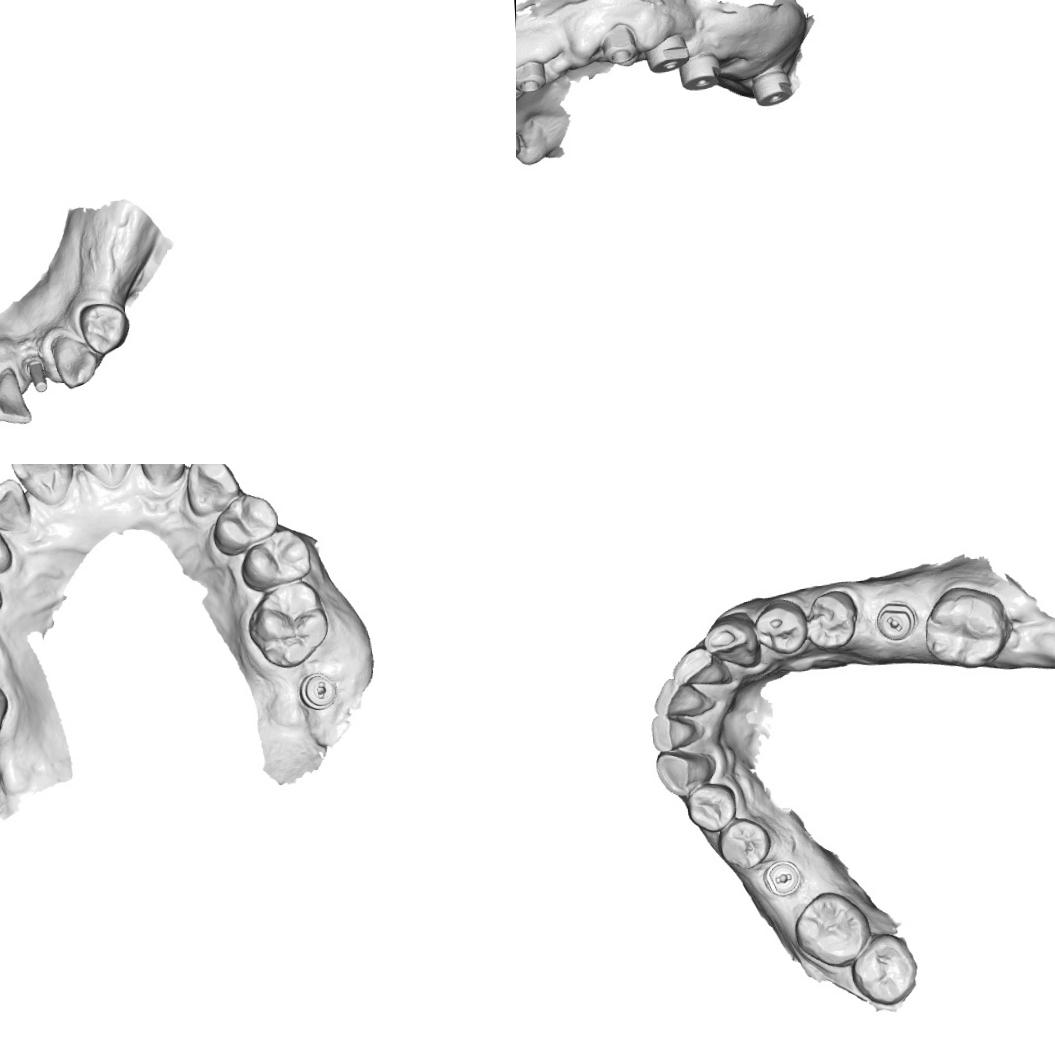abutment: (20, 353, 48, 394)
canine: (700, 609, 760, 672), (652, 746, 721, 799), (181, 464, 245, 519), (48, 330, 99, 390), (0, 513, 14, 579)
implant: (674, 42, 729, 100), (639, 26, 695, 78), (744, 58, 798, 108), (595, 20, 641, 68), (516, 52, 551, 95), (516, 127, 528, 163)
implant_minus: (293, 670, 339, 715), (760, 858, 806, 900), (874, 599, 916, 644)
incisor: (6, 464, 76, 510), (666, 646, 728, 689), (651, 674, 710, 718), (649, 710, 701, 756), (0, 473, 33, 536), (0, 365, 32, 425), (68, 464, 136, 492), (133, 464, 189, 491)
molar: (244, 578, 334, 670), (920, 582, 1012, 672), (790, 887, 874, 970), (846, 927, 921, 1009)
premolar: (237, 525, 314, 593), (209, 488, 282, 558), (800, 587, 860, 652), (713, 814, 776, 873), (750, 596, 809, 658), (76, 297, 130, 357), (682, 780, 739, 834)
